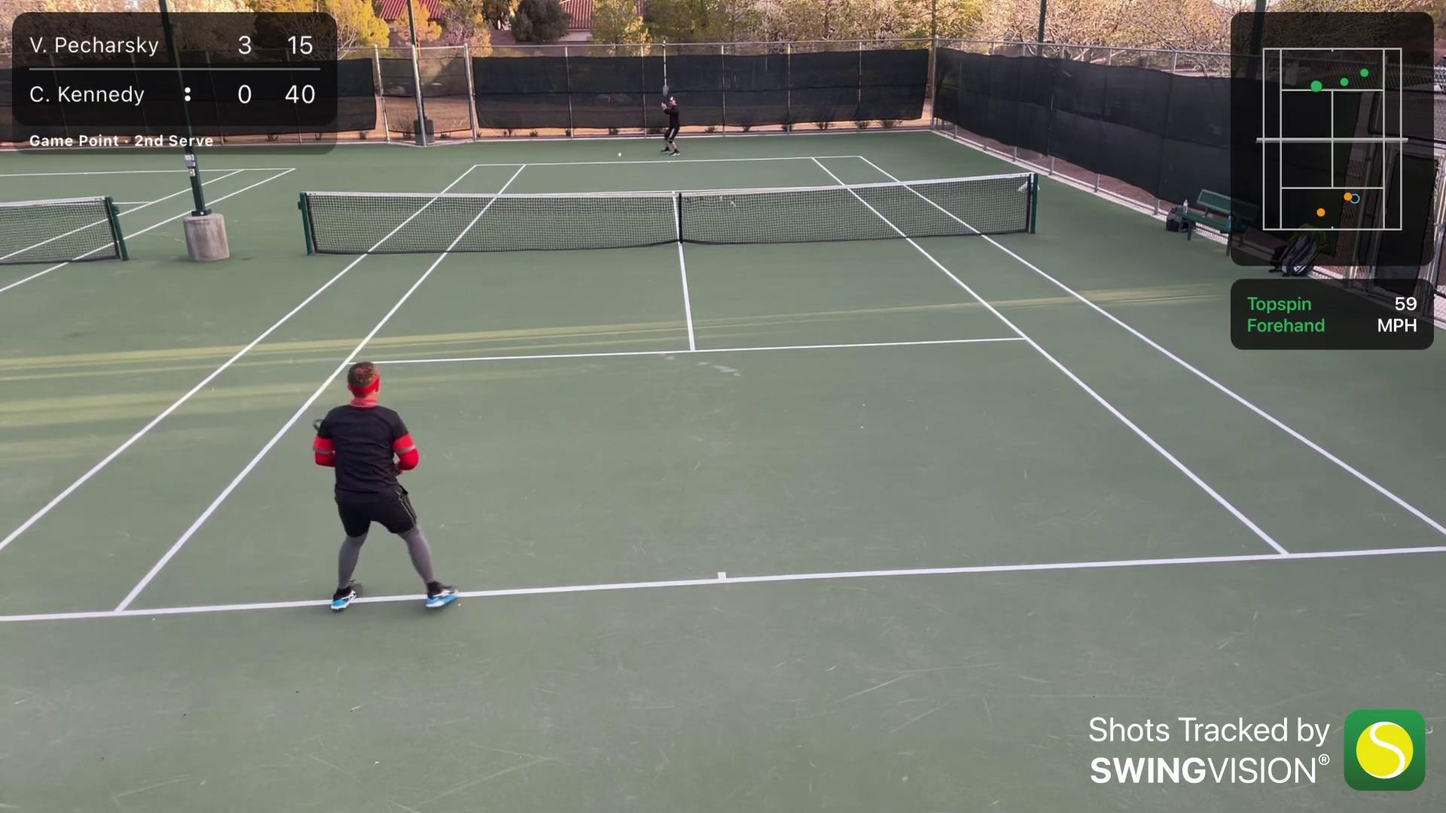ball: (616, 151, 622, 158)
